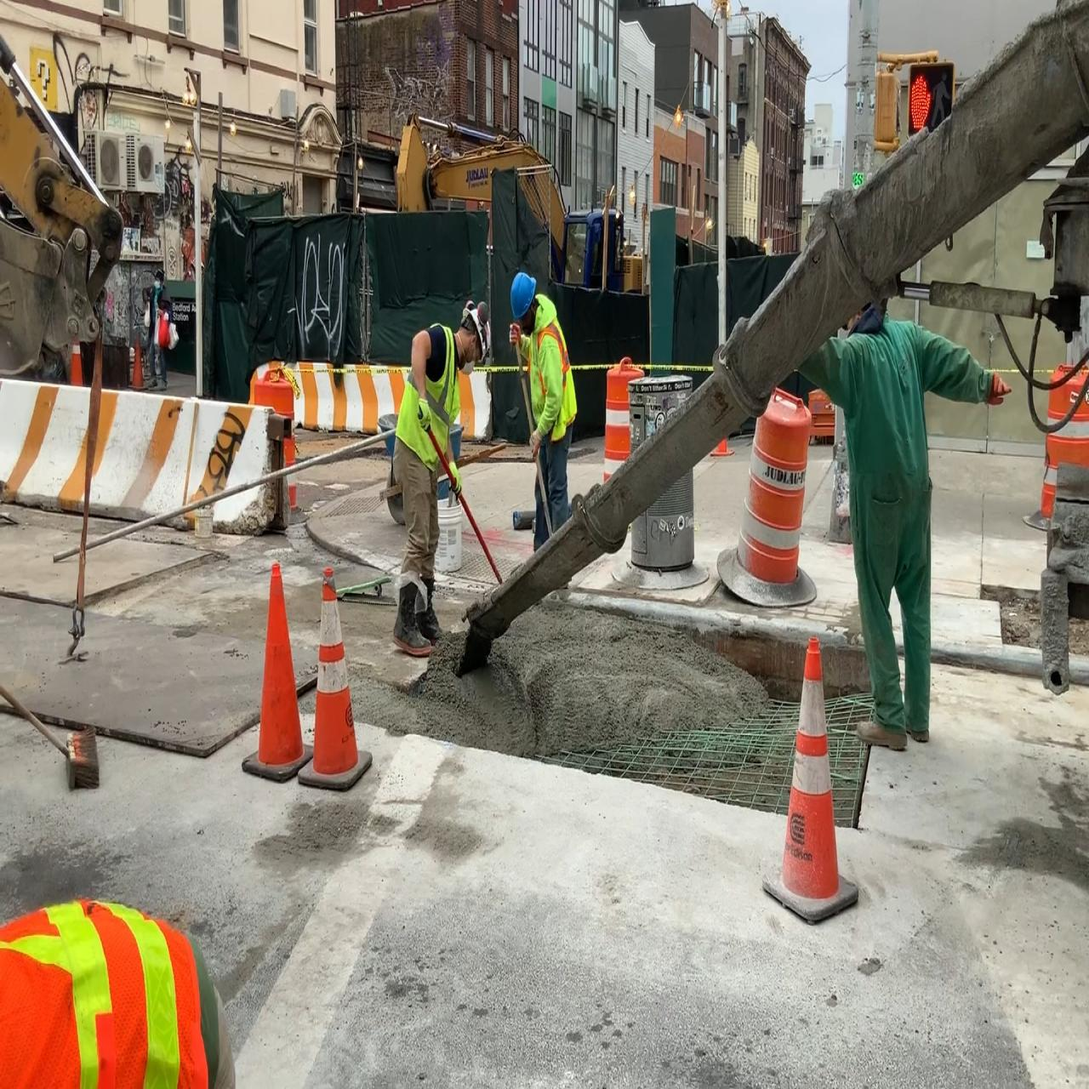NO_Safety_Vest: (845, 332, 931, 521), (150, 289, 169, 334)
Person: (797, 281, 1012, 752), (394, 288, 502, 662), (508, 269, 577, 592), (142, 269, 177, 389)
Safety_Vest: (0, 886, 216, 1089), (396, 317, 462, 473), (527, 317, 577, 443)
